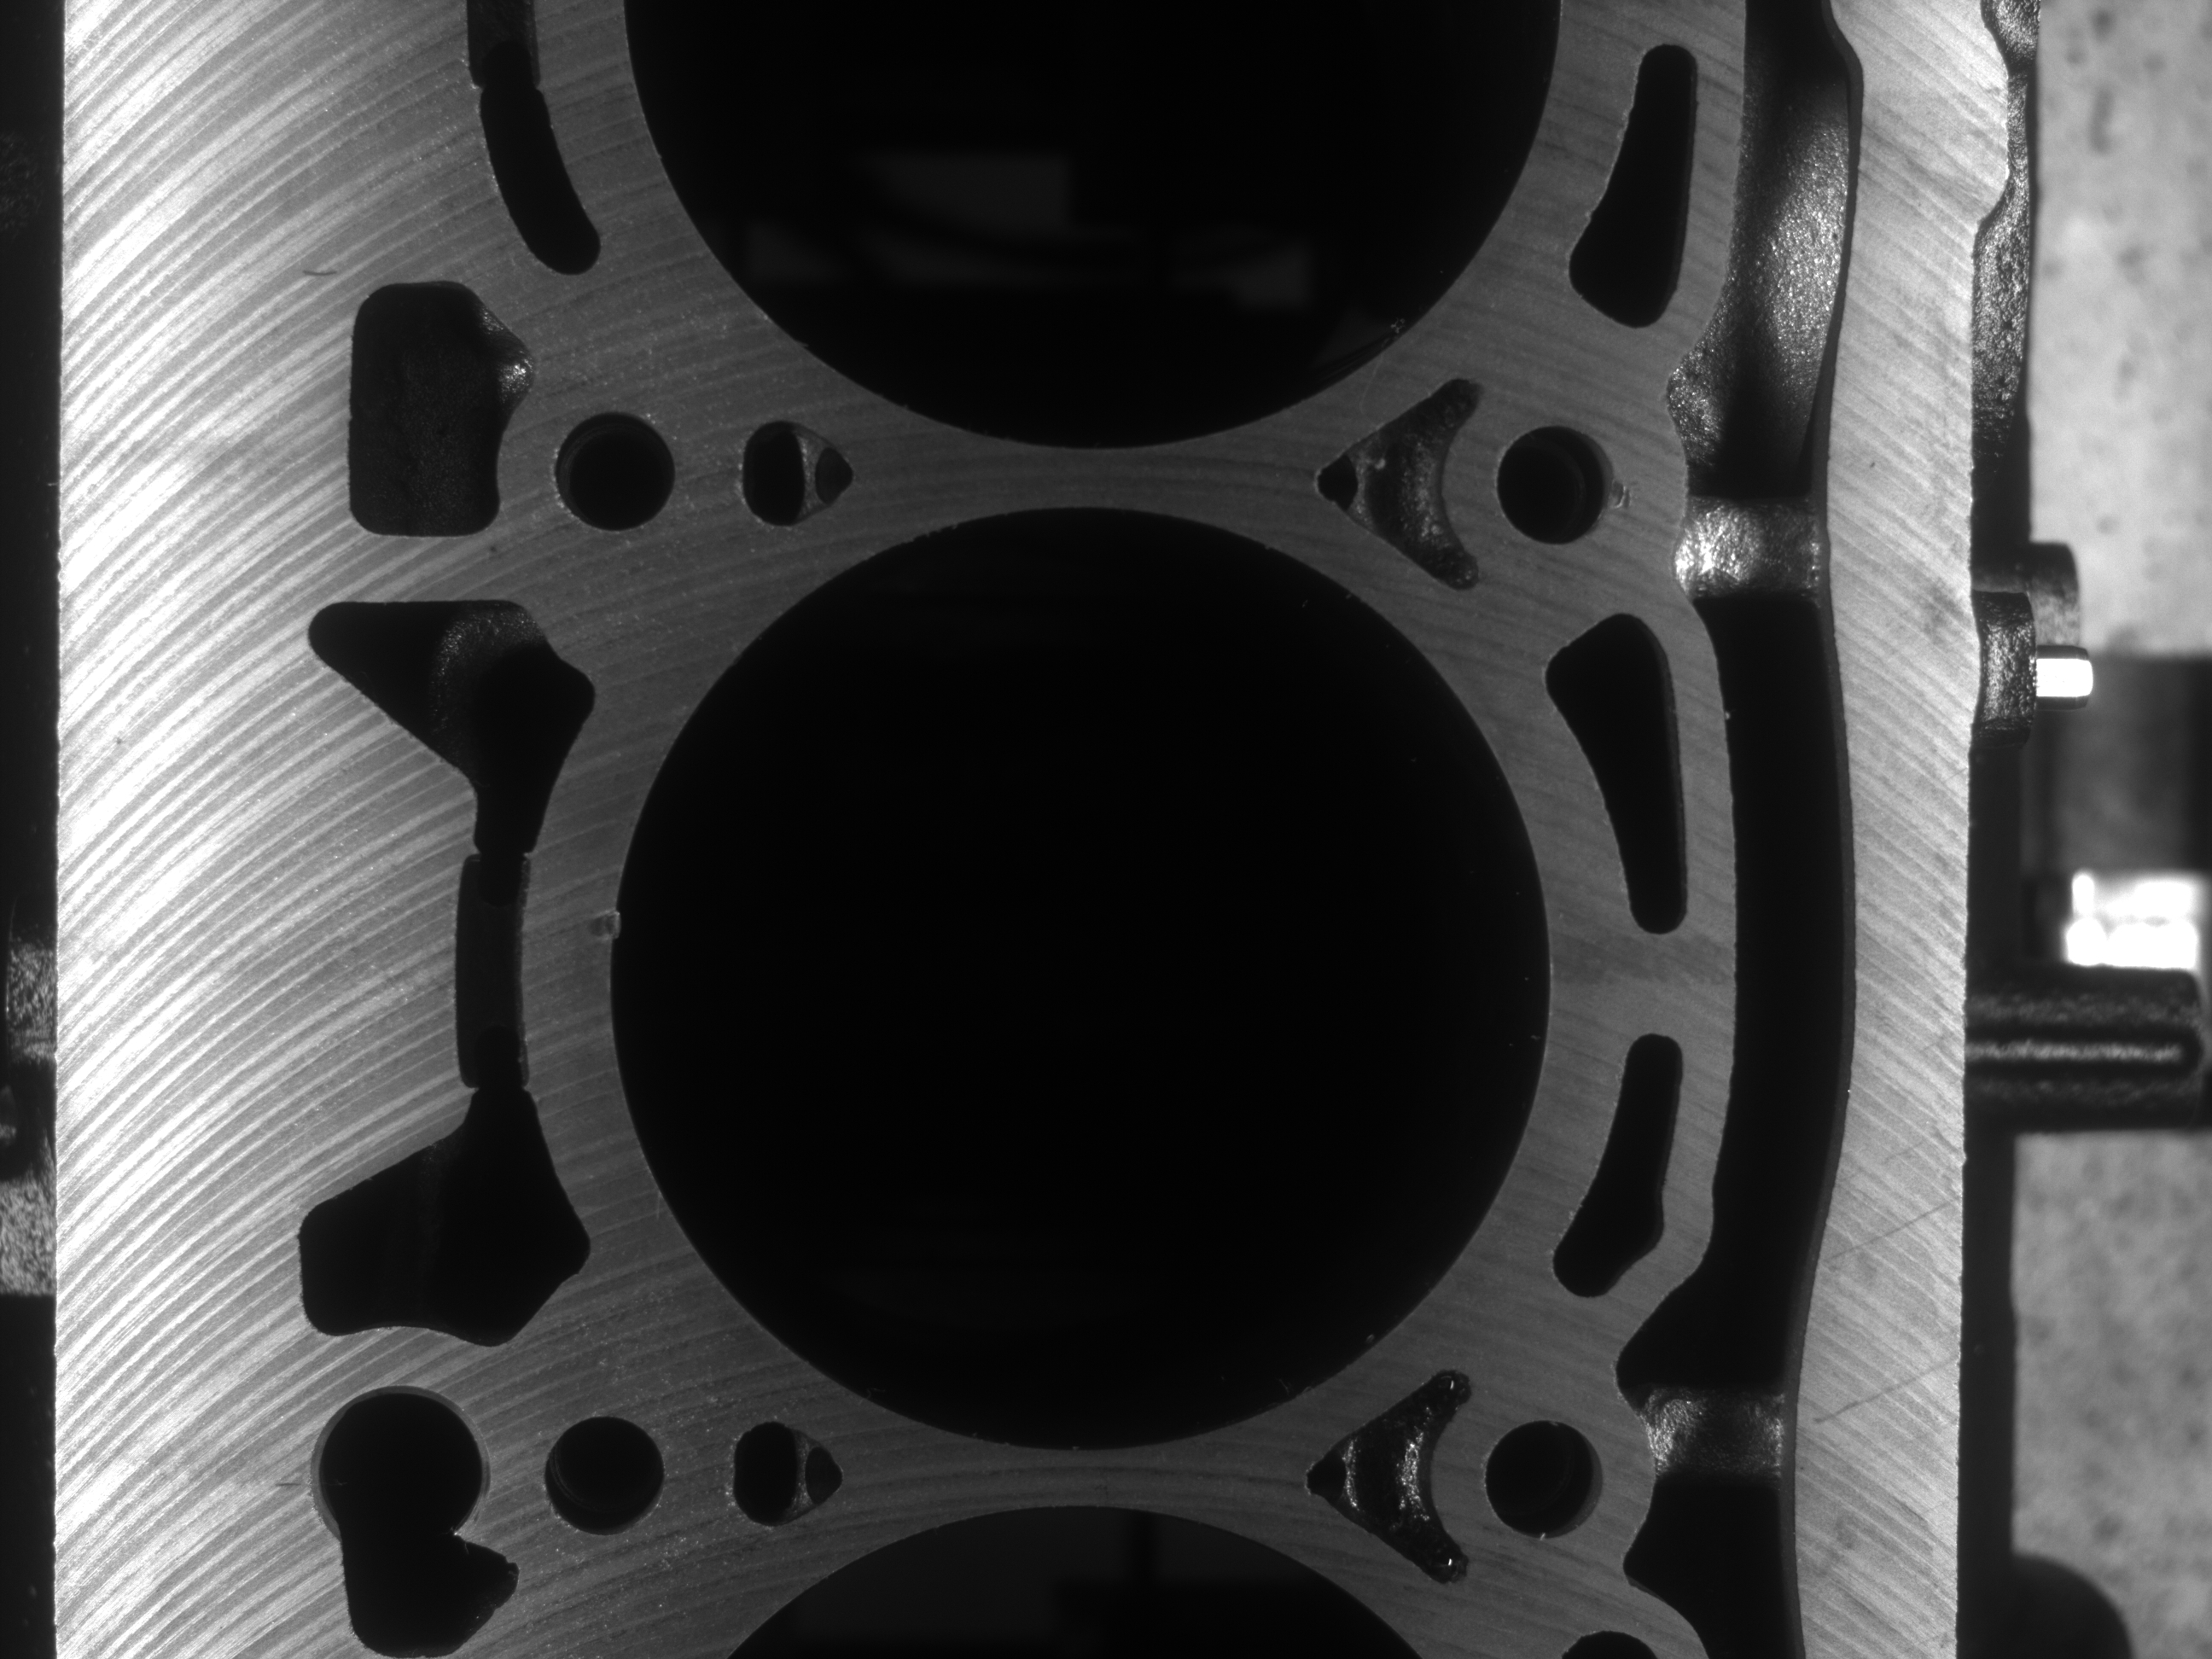shrinkage: (582, 897, 627, 945), (1602, 479, 1635, 521)
